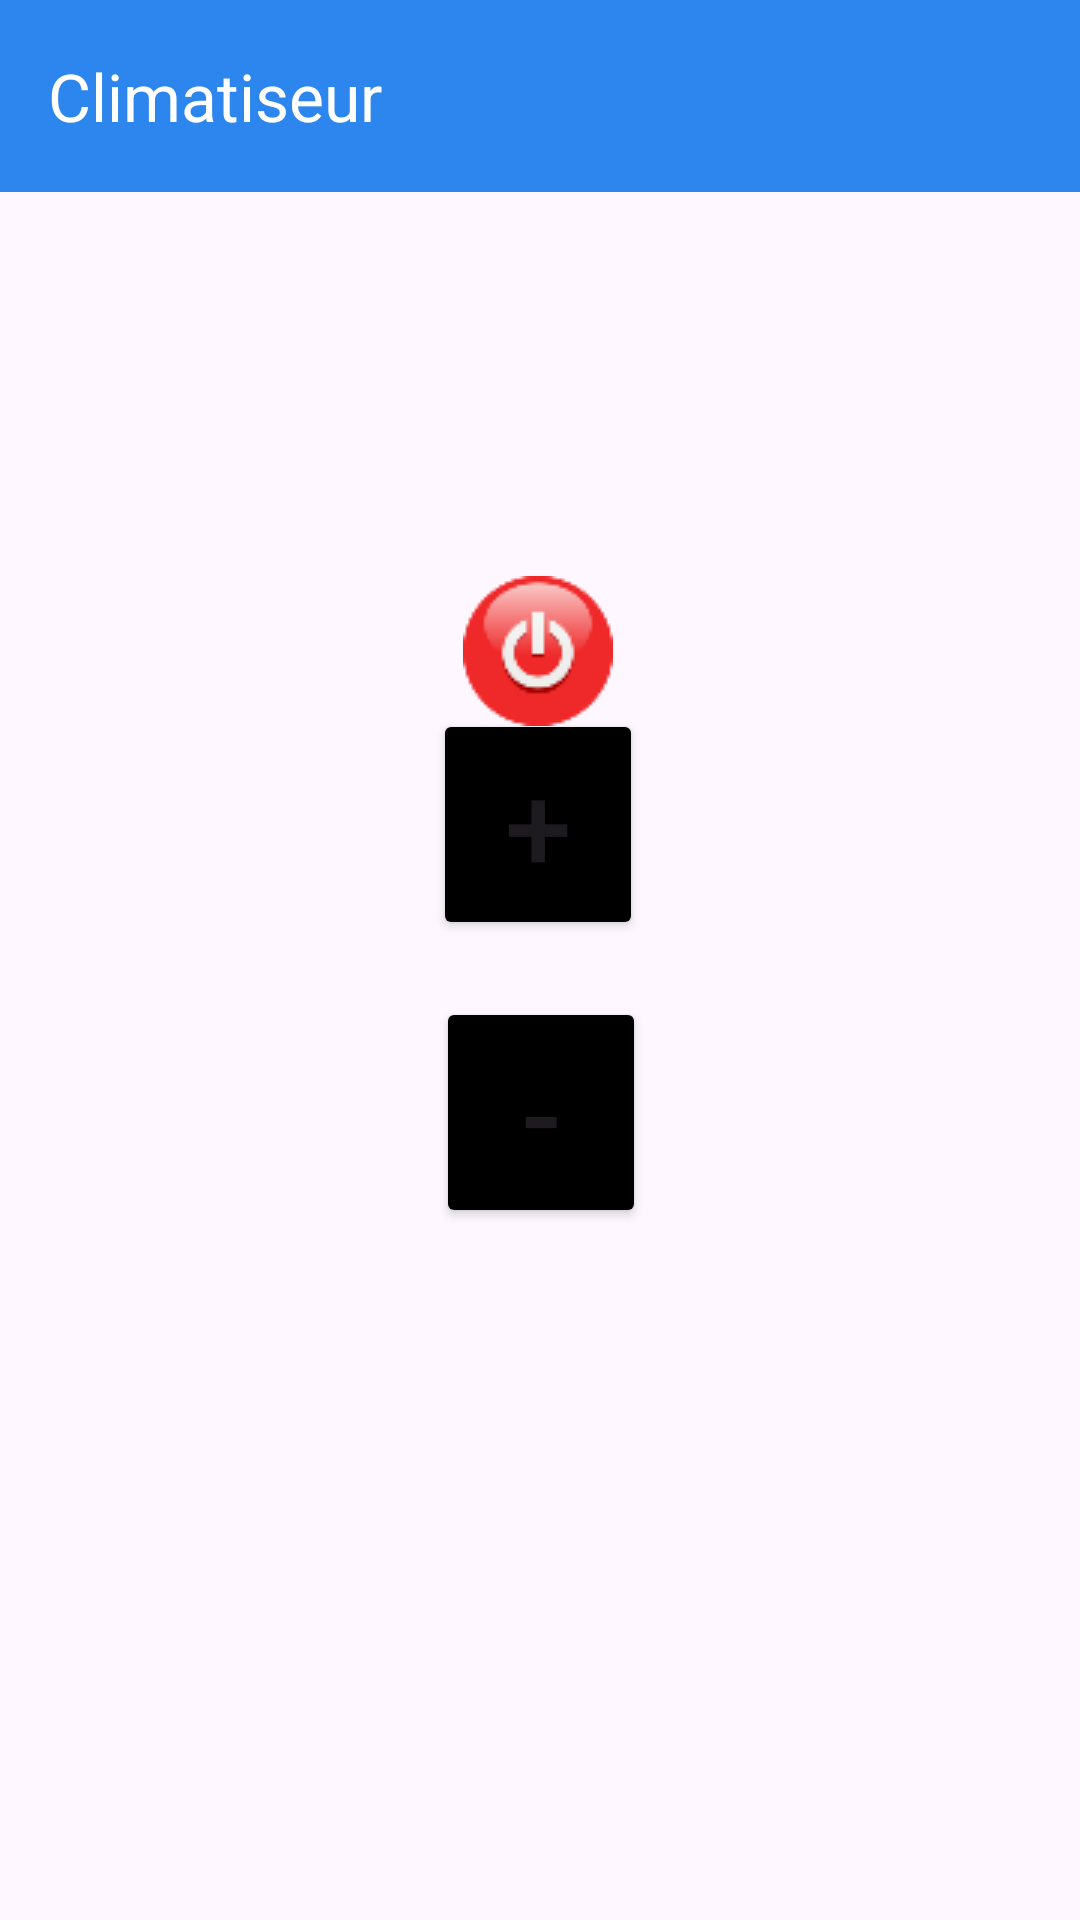

Icon bounding boxes for this 1080×1920 phone screenshot, format (x1, y1, x2, y2):
Bouton power: (463, 576, 613, 726)
